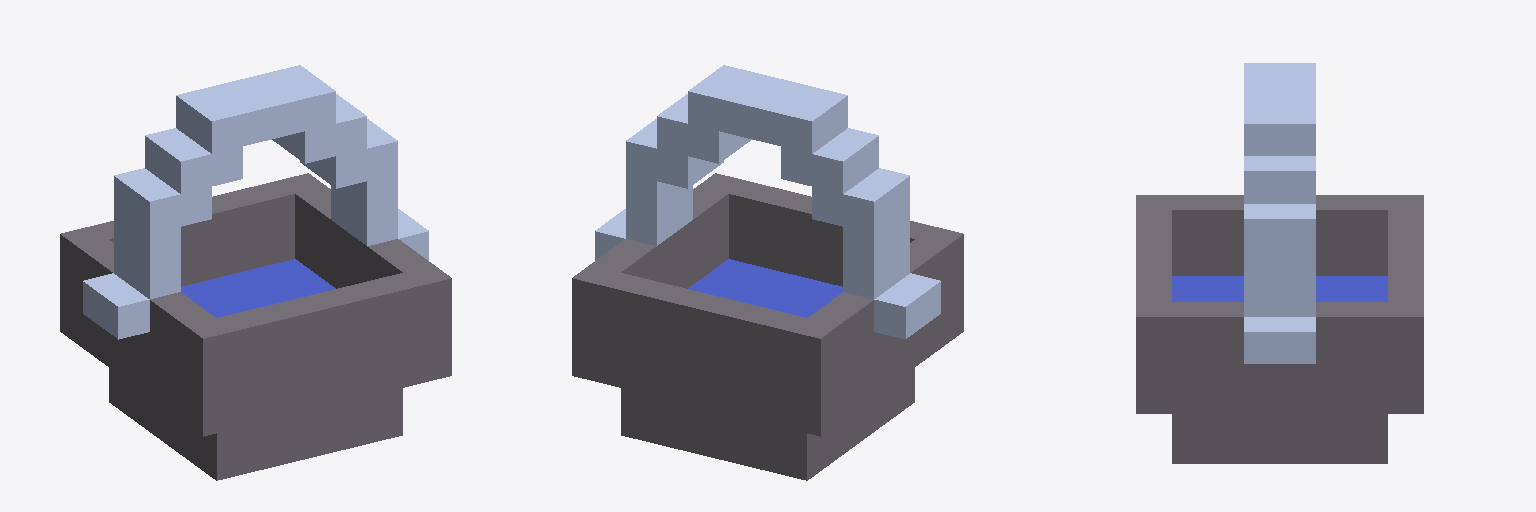
3 views of the same model, side by side, from view 1: azimuth 30°, elevation 25°; view 2: azimuth 150°, elevation 25°; view 3: azimuth 270°, elevation 25° (orthographic).
Visible parts, largest first — view 1: object 1; view 2: object 1; view 3: object 1.
Part boxes in pixels (x1,y1,x2,y2): object 1: (60, 65, 451, 480); object 1: (572, 65, 963, 480); object 1: (1136, 63, 1423, 463).
Size of the model in its own units: 1 by 1 by 0.8.
1 materials, 1 textured.